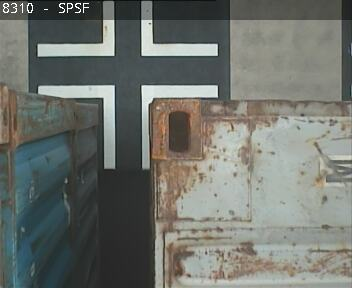groundmarker_1: (36, 84, 218, 170), (36, 1, 218, 58)
